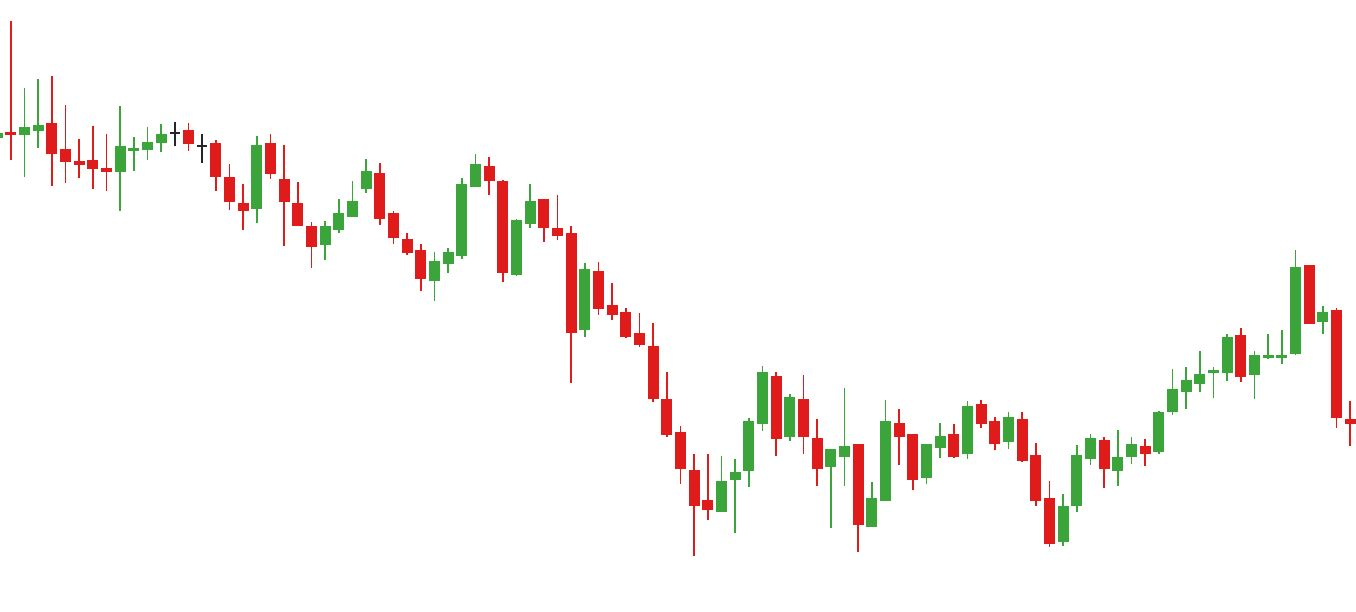buy: (905, 426, 1085, 555)
sell: (357, 152, 494, 241)
